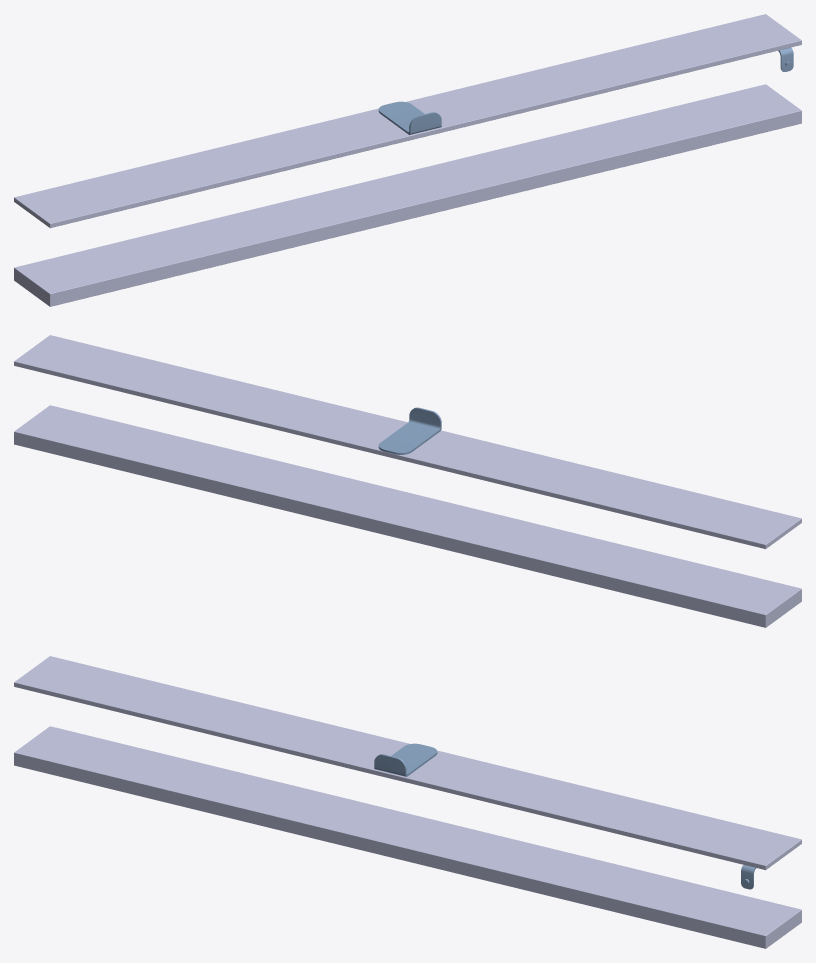
Rendered from SM_wall_rack.fbx.
3 renders of one model, top to bottom at view 1: azimuth 30°, elevation 25°; view 2: azimuth 150°, elevation 25°; view 3: azimuth 330°, elevation 25°, orthographic.
Parts seen in each view (by area): view 1: SM_rack_2, SM_rack_3, SM_bracket_2; view 2: SM_rack_2, SM_rack_3, SM_bracket_2; view 3: SM_rack_2, SM_rack_3, SM_bracket_2.
Boxes of the visible parts, bbox=[...] form: SM_rack_2: bbox=[14, 84, 801, 306]; SM_rack_3: bbox=[14, 14, 801, 228]; SM_bracket_2: bbox=[378, 101, 441, 134]; SM_rack_2: bbox=[14, 405, 801, 627]; SM_rack_3: bbox=[14, 335, 801, 549]; SM_bracket_2: bbox=[378, 407, 441, 454]; SM_rack_2: bbox=[14, 726, 801, 948]; SM_rack_3: bbox=[14, 656, 801, 870]; SM_bracket_2: bbox=[374, 743, 437, 776].
Bounding box in the file's own units: 600 × 76.64 × 54.76.
